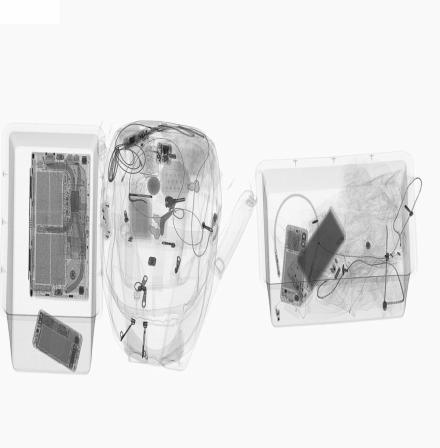Powerbank: (286, 206, 348, 307)
